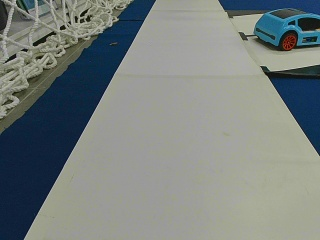car: (253, 9, 319, 50)
